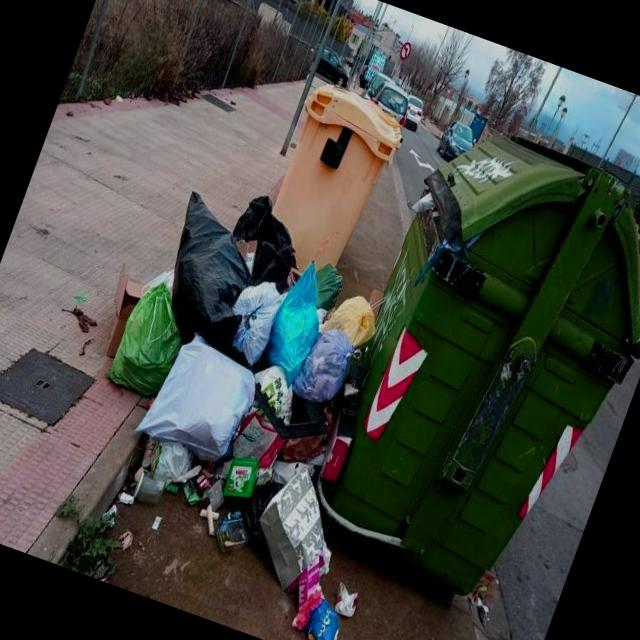high trash: (108, 192, 374, 640)
